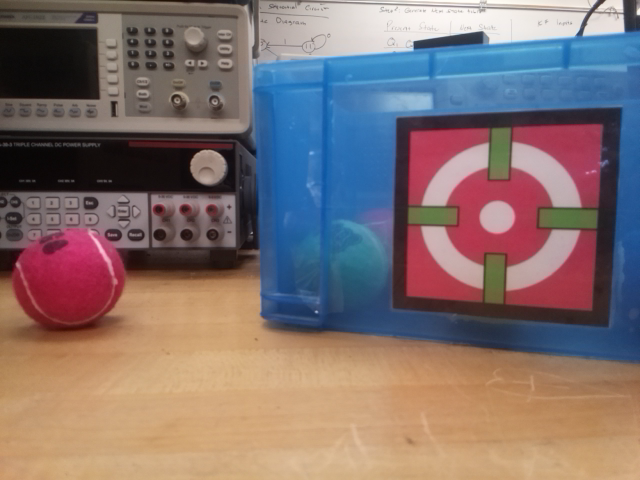drop-bin: (390, 106, 622, 328)
red-ball: (11, 226, 128, 332)
